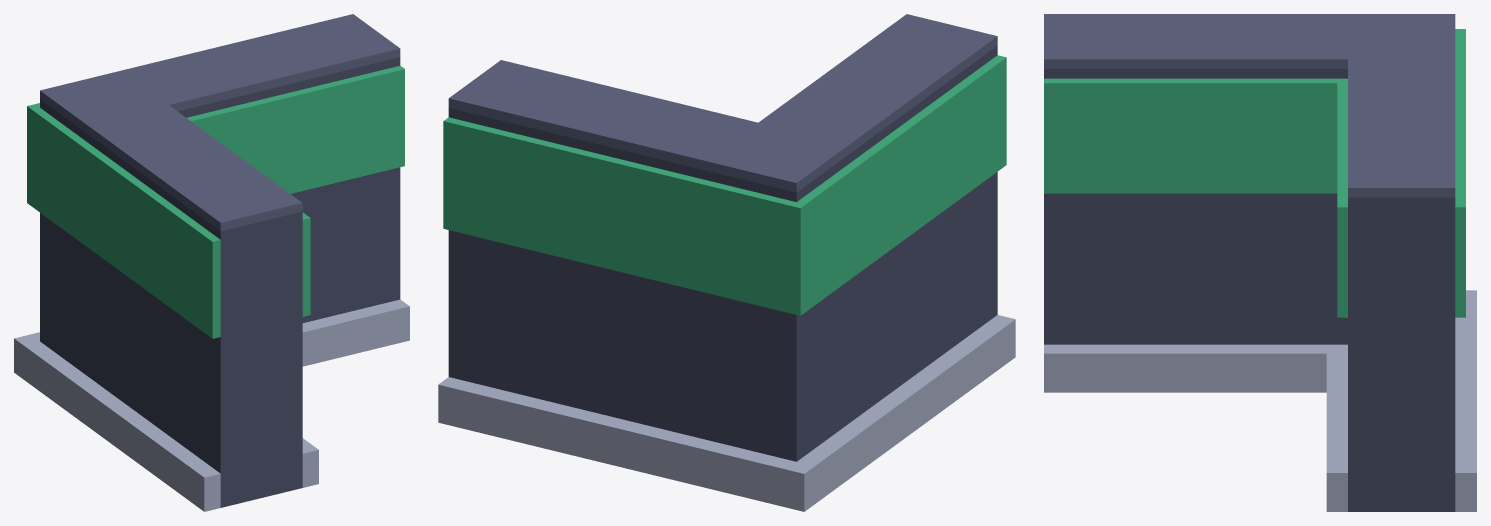
Rendered from partition-low-elbow.glb.
3 renders of one model, left to right at view 1: azimuth 30°, elevation 25°; view 2: azimuth 150°, elevation 25°; view 3: azimuth 270°, elevation 25°, orthographic. The views are drawn at different scales.
Visible parts, largest first — view 1: partition-low-elbow; view 2: partition-low-elbow; view 3: partition-low-elbow.
Boxes of the visible parts, x1,y1,x2,y2 form: partition-low-elbow: [14, 14, 409, 511]; partition-low-elbow: [438, 14, 1015, 511]; partition-low-elbow: [1044, 14, 1476, 511].
Size of the model in its own units: 0.605 by 0.5 by 0.605.
Materials: 1 (1 with a texture image).
